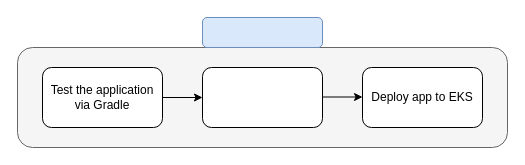
The diagram is 525 pixels wide and 165 high, and some of its shapes have lost their labels. Here are the shapes that lost their labels. From the top down, the centre of each, then its label:
At (262,32): "Job Breakdown".
At (262,97): "Build and push the image to ECR".
